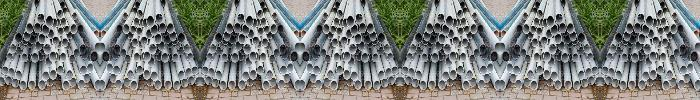pipe: (302, 51, 310, 62), (290, 51, 298, 62), (490, 51, 498, 62), (102, 51, 110, 62), (502, 51, 510, 62), (90, 51, 98, 62), (690, 51, 698, 62), (351, 24, 358, 35), (347, 16, 354, 27), (242, 24, 249, 35), (442, 24, 449, 35), (151, 24, 158, 35), (551, 24, 558, 35), (42, 24, 49, 35), (642, 24, 649, 35), (246, 16, 253, 27), (446, 16, 453, 27), (147, 16, 154, 27), (547, 16, 554, 27), (46, 16, 53, 27), (646, 16, 653, 27), (331, 80, 338, 90), (367, 23, 374, 33), (359, 23, 366, 33), (356, 14, 363, 24), (349, 44, 356, 54), (262, 80, 269, 90), (462, 80, 469, 90), (131, 80, 138, 90), (531, 80, 538, 90), (62, 80, 69, 90), (662, 80, 669, 90), (226, 23, 233, 33), (426, 23, 433, 33), (167, 23, 174, 33), (567, 23, 574, 33), (26, 23, 33, 33), (626, 23, 633, 33), (234, 23, 241, 33), (434, 23, 441, 33), (159, 23, 166, 33), (559, 23, 566, 33), (34, 23, 41, 33), (634, 23, 641, 33), (237, 14, 244, 24), (437, 14, 444, 24), (156, 14, 163, 24), (556, 14, 563, 24), (37, 14, 44, 24), (637, 14, 644, 24), (244, 44, 251, 54), (444, 44, 451, 54), (149, 44, 156, 54), (549, 44, 556, 54), (44, 44, 51, 54), (644, 44, 651, 54), (323, 78, 330, 87), (327, 71, 334, 80), (306, 63, 313, 72), (336, 66, 343, 75), (343, 70, 350, 79), (347, 77, 354, 86), (351, 71, 358, 80), (365, 80, 372, 89), (381, 78, 388, 87), (388, 76, 395, 85), (385, 68, 392, 77), (378, 70, 385, 79), (372, 53, 379, 62), (361, 53, 368, 62), (378, 34, 385, 43), (358, 41, 365, 50), (344, 52, 351, 61), (270, 78, 277, 87), (470, 78, 477, 87), (123, 78, 130, 87), (523, 78, 530, 87), (70, 78, 77, 87), (670, 78, 677, 87), (266, 71, 273, 80), (466, 71, 473, 80), (127, 71, 134, 80), (527, 71, 534, 80), (66, 71, 73, 80), (666, 71, 673, 80), (287, 63, 294, 72), (487, 63, 494, 72), (106, 63, 113, 72), (506, 63, 513, 72), (87, 63, 94, 72), (687, 63, 694, 72), (257, 66, 264, 75), (457, 66, 464, 75), (136, 66, 143, 75), (536, 66, 543, 75), (57, 66, 64, 75), (657, 66, 664, 75), (250, 70, 257, 79), (450, 70, 457, 79), (143, 70, 150, 79), (543, 70, 550, 79), (50, 70, 57, 79), (650, 70, 657, 79), (246, 77, 253, 86), (446, 77, 453, 86), (147, 77, 154, 86), (547, 77, 554, 86), (46, 77, 53, 86), (646, 77, 653, 86), (242, 71, 249, 80), (442, 71, 449, 80), (151, 71, 158, 80), (551, 71, 558, 80), (42, 71, 49, 80), (642, 71, 649, 80), (228, 80, 235, 89), (428, 80, 435, 89), (165, 80, 172, 89), (565, 80, 572, 89), (28, 80, 35, 89), (628, 80, 635, 89), (212, 78, 219, 87), (412, 78, 419, 87), (181, 78, 188, 87), (581, 78, 588, 87), (12, 78, 19, 87), (612, 78, 619, 87), (205, 76, 212, 85), (405, 76, 412, 85), (188, 76, 195, 85), (588, 76, 595, 85), (5, 76, 12, 85), (605, 76, 612, 85), (208, 68, 215, 77), (408, 68, 415, 77), (185, 68, 192, 77), (585, 68, 592, 77), (8, 68, 15, 77), (608, 68, 615, 77), (215, 70, 222, 79), (415, 70, 422, 79), (178, 70, 185, 79), (578, 70, 585, 79), (15, 70, 22, 79), (615, 70, 622, 79), (221, 53, 228, 62), (421, 53, 428, 62), (172, 53, 179, 62), (572, 53, 579, 62), (21, 53, 28, 62), (621, 53, 628, 62), (232, 53, 239, 62), (432, 53, 439, 62), (161, 53, 168, 62), (561, 53, 568, 62), (32, 53, 39, 62), (632, 53, 639, 62), (215, 34, 222, 43), (415, 34, 422, 43), (178, 34, 185, 43), (578, 34, 585, 43), (15, 34, 22, 43), (615, 34, 622, 43), (235, 41, 242, 50), (435, 41, 442, 50), (158, 41, 165, 50), (558, 41, 565, 50), (35, 41, 42, 50), (635, 41, 642, 50), (249, 52, 256, 61), (449, 52, 456, 61), (144, 52, 151, 61), (544, 52, 551, 61), (49, 52, 56, 61), (649, 52, 656, 61), (370, 31, 376, 41), (355, 34, 361, 44), (346, 29, 352, 39), (328, 29, 334, 39), (300, 42, 305, 54), (224, 31, 230, 41), (424, 31, 430, 41), (170, 31, 176, 41), (570, 31, 576, 41), (24, 31, 30, 41), (624, 31, 630, 41), (239, 34, 245, 44), (439, 34, 445, 44), (155, 34, 161, 44), (555, 34, 561, 44), (39, 34, 45, 44), (639, 34, 645, 44), (248, 29, 254, 39), (448, 29, 454, 39), (146, 29, 152, 39), (546, 29, 552, 39), (48, 29, 54, 39), (648, 29, 654, 39), (266, 29, 272, 39), (466, 29, 472, 39), (128, 29, 134, 39), (528, 29, 534, 39), (66, 29, 72, 39), (666, 29, 672, 39), (295, 42, 300, 54), (495, 42, 500, 54), (100, 42, 105, 54), (500, 42, 505, 54), (95, 42, 100, 54), (695, 42, 700, 54), (315, 80, 322, 88), (313, 66, 320, 74), (312, 51, 319, 59), (278, 80, 285, 88), (478, 80, 485, 88), (115, 80, 122, 88), (515, 80, 522, 88), (78, 80, 85, 88), (678, 80, 685, 88), (280, 66, 287, 74), (480, 66, 487, 74), (113, 66, 120, 74), (513, 66, 520, 74), (80, 66, 87, 74), (680, 66, 687, 74), (281, 51, 288, 59), (481, 51, 488, 59), (112, 51, 119, 59), (512, 51, 519, 59), (81, 51, 88, 59), (681, 51, 688, 59), (300, 80, 306, 89), (314, 44, 320, 53), (355, 80, 361, 89), (374, 81, 380, 90), (392, 66, 398, 75), (387, 53, 393, 62), (384, 44, 390, 53), (341, 37, 347, 46), (336, 27, 342, 36), (332, 38, 338, 47), (348, 57, 354, 66), (334, 53, 340, 62), (294, 80, 300, 89), (494, 80, 500, 89), (100, 80, 106, 89), (500, 80, 506, 89), (94, 80, 100, 89), (694, 80, 700, 89), (280, 44, 286, 53), (480, 44, 486, 53), (114, 44, 120, 53), (514, 44, 520, 53), (80, 44, 86, 53), (680, 44, 686, 53), (239, 80, 245, 89), (439, 80, 445, 89), (155, 80, 161, 89), (555, 80, 561, 89), (39, 80, 45, 89), (639, 80, 645, 89), (220, 81, 226, 90), (420, 81, 426, 90), (174, 81, 180, 90), (574, 81, 580, 90), (20, 81, 26, 90), (620, 81, 626, 90), (202, 66, 208, 75), (402, 66, 408, 75), (192, 66, 198, 75), (592, 66, 598, 75), (2, 66, 8, 75), (602, 66, 608, 75), (207, 53, 213, 62), (407, 53, 413, 62), (187, 53, 193, 62), (587, 53, 593, 62), (7, 53, 13, 62), (607, 53, 613, 62), (210, 44, 216, 53), (410, 44, 416, 53), (184, 44, 190, 53), (584, 44, 590, 53), (10, 44, 16, 53), (610, 44, 616, 53), (253, 37, 259, 46), (453, 37, 459, 46), (141, 37, 147, 46), (541, 37, 547, 46), (53, 37, 59, 46), (653, 37, 659, 46), (258, 27, 264, 36), (458, 27, 464, 36), (136, 27, 142, 36), (536, 27, 542, 36), (58, 27, 64, 36), (658, 27, 664, 36), (262, 38, 268, 47), (462, 38, 468, 47), (132, 38, 138, 47), (532, 38, 538, 47), (62, 38, 68, 47), (662, 38, 668, 47), (246, 57, 252, 66), (446, 57, 452, 66), (148, 57, 154, 66), (548, 57, 554, 66), (46, 57, 52, 66), (646, 57, 652, 66), (260, 53, 266, 62), (460, 53, 466, 62), (134, 53, 140, 62), (534, 53, 540, 62), (60, 53, 66, 62), (660, 53, 666, 62), (343, 18, 348, 28), (252, 18, 257, 28), (452, 18, 457, 28), (143, 18, 148, 28), (543, 18, 548, 28), (52, 18, 57, 28), (652, 18, 657, 28), (310, 74, 316, 82), (320, 49, 326, 57), (378, 47, 384, 55), (365, 35, 371, 43), (336, 10, 342, 18), (333, 18, 339, 26), (330, 42, 336, 50), (356, 52, 362, 60), (323, 25, 329, 33), (284, 74, 290, 82), (484, 74, 490, 82), (110, 74, 116, 82), (510, 74, 516, 82), (84, 74, 90, 82), (684, 74, 690, 82), (274, 49, 280, 57), (474, 49, 480, 57), (120, 49, 126, 57), (520, 49, 526, 57), (74, 49, 80, 57), (674, 49, 680, 57), (216, 47, 222, 55), (416, 47, 422, 55), (178, 47, 184, 55), (578, 47, 584, 55), (16, 47, 22, 55), (616, 47, 622, 55), (229, 35, 235, 43), (429, 35, 435, 43), (165, 35, 171, 43), (565, 35, 571, 43), (29, 35, 35, 43), (629, 35, 635, 43), (258, 10, 264, 18), (458, 10, 464, 18), (136, 10, 142, 18), (536, 10, 542, 18), (58, 10, 64, 18), (658, 10, 664, 18), (261, 18, 267, 26), (461, 18, 467, 26), (133, 18, 139, 26), (533, 18, 539, 26), (61, 18, 67, 26), (661, 18, 667, 26), (264, 42, 270, 50), (464, 42, 470, 50), (130, 42, 136, 50), (530, 42, 536, 50), (64, 42, 70, 50), (664, 42, 670, 50), (238, 52, 244, 60), (438, 52, 444, 60), (156, 52, 162, 60), (556, 52, 562, 60), (38, 52, 44, 60), (638, 52, 644, 60), (271, 25, 277, 33), (471, 25, 477, 33), (123, 25, 129, 33), (523, 25, 529, 33), (71, 25, 77, 33), (671, 25, 677, 33), (395, 77, 400, 86), (331, 25, 336, 34), (317, 24, 322, 33), (200, 77, 205, 86), (400, 77, 405, 86), (195, 77, 200, 86), (595, 77, 600, 86), (0, 77, 5, 86), (600, 77, 605, 86), (264, 25, 269, 34), (464, 25, 469, 34), (131, 25, 136, 34), (531, 25, 536, 34), (64, 25, 69, 34), (664, 25, 669, 34), (278, 24, 283, 33), (478, 24, 483, 33), (117, 24, 122, 33), (517, 24, 522, 33), (78, 24, 83, 33), (678, 24, 683, 33), (375, 41, 381, 48), (372, 37, 378, 44), (338, 41, 344, 48), (219, 41, 225, 48), (419, 41, 425, 48), (175, 41, 181, 48), (575, 41, 581, 48), (19, 41, 25, 48), (619, 41, 625, 48), (222, 37, 228, 44), (422, 37, 428, 44), (172, 37, 178, 44), (572, 37, 578, 44), (22, 37, 28, 44), (622, 37, 628, 44), (256, 41, 262, 48), (456, 41, 462, 48), (138, 41, 144, 48), (538, 41, 544, 48), (56, 41, 62, 48), (656, 41, 662, 48), (325, 55, 330, 62), (335, 1, 340, 8), (301, 30, 306, 37), (361, 0, 366, 7), (270, 55, 275, 62), (470, 55, 475, 62), (125, 55, 130, 62), (525, 55, 530, 62), (70, 55, 75, 62), (670, 55, 675, 62), (260, 1, 265, 8), (460, 1, 465, 8), (135, 1, 140, 8), (535, 1, 540, 8), (60, 1, 65, 8), (660, 1, 665, 8), (294, 30, 299, 37), (494, 30, 499, 37), (101, 30, 106, 37), (501, 30, 506, 37), (94, 30, 99, 37), (694, 30, 699, 37), (234, 0, 239, 7), (434, 0, 439, 7), (161, 0, 166, 7), (561, 0, 566, 7), (34, 0, 39, 7), (634, 0, 639, 7), (341, 53, 345, 61), (255, 53, 259, 61), (455, 53, 459, 61), (141, 53, 145, 61), (541, 53, 545, 61), (55, 53, 59, 61), (655, 53, 659, 61), (323, 13, 328, 19), (272, 13, 277, 19), (472, 13, 477, 19), (123, 13, 128, 19), (523, 13, 528, 19), (72, 13, 77, 19), (672, 13, 677, 19), (333, 7, 337, 14), (263, 7, 267, 14), (463, 7, 467, 14), (133, 7, 137, 14), (533, 7, 537, 14), (63, 7, 67, 14), (663, 7, 667, 14)
